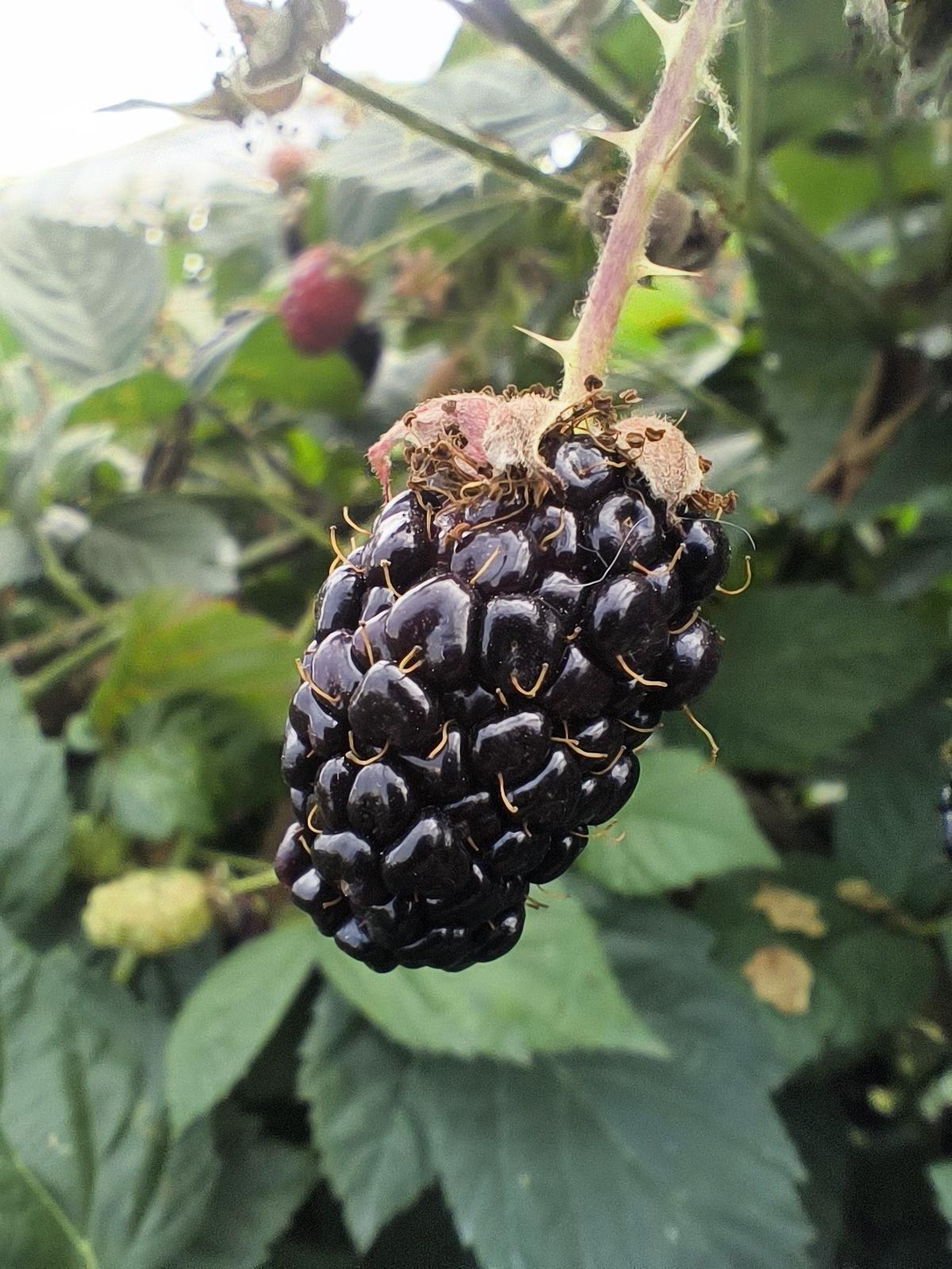maduro: (297, 411, 735, 972)
